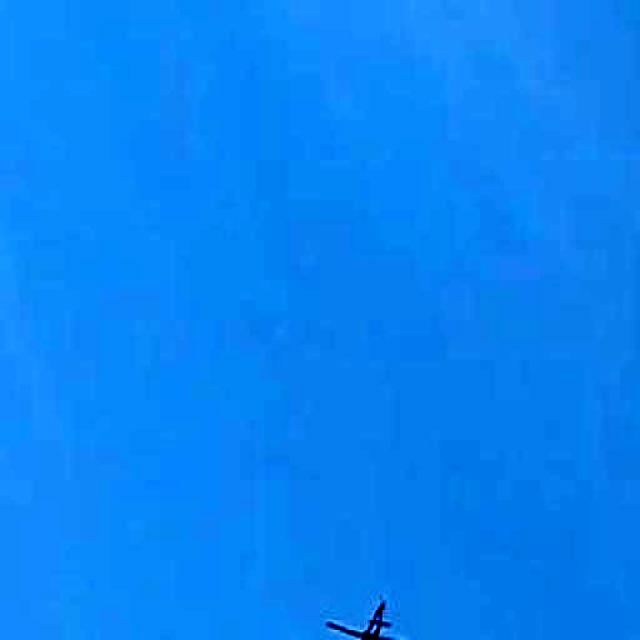drone: (320, 584, 424, 640)
